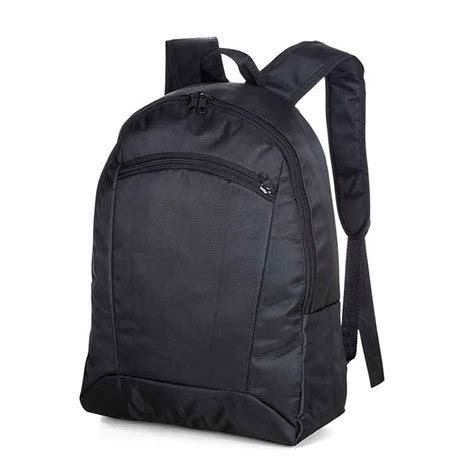nylon: (80, 36, 381, 449)
